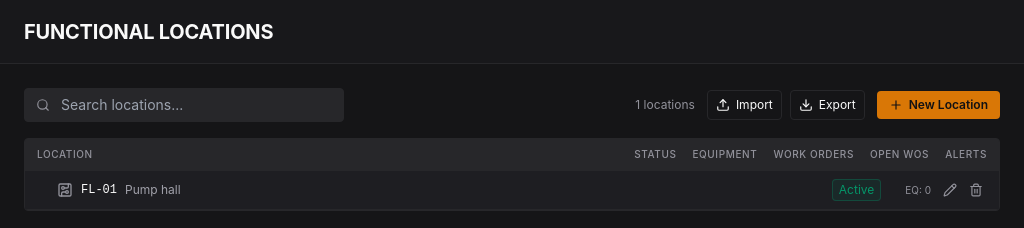
LocationsPage functional-location CRUD (SOW 3.1.1) › deletes a location
Click the button named "delete fl-01" at (976, 190), box [965,179,987,201]
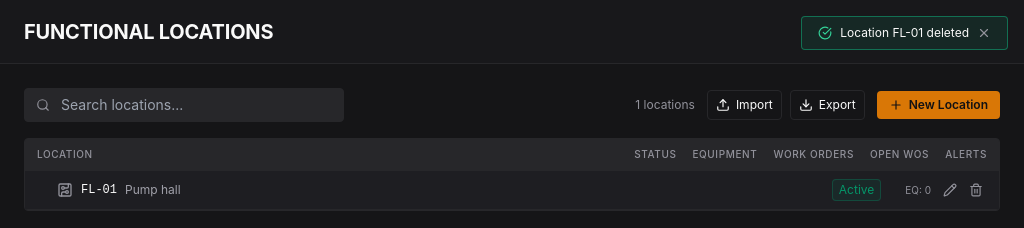
Check: the text "Location FL-01 deleted" is shown, box [840,25,969,41]
